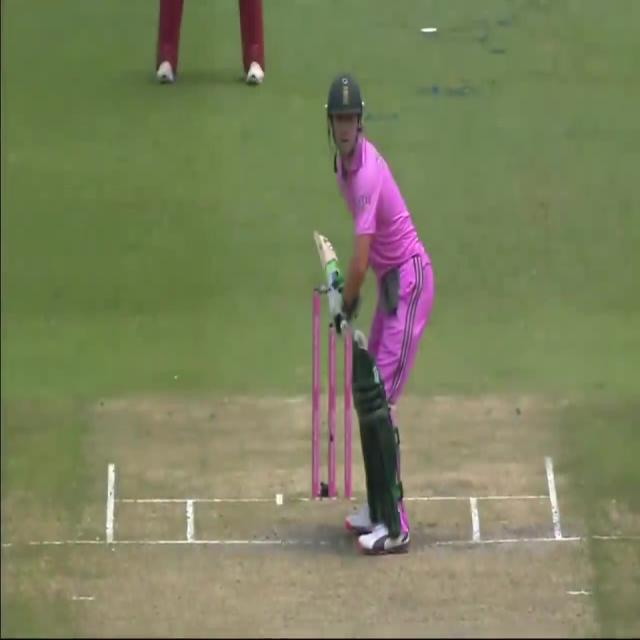Ball: (305, 60, 438, 558)
Fielder: (144, 0, 278, 89)
